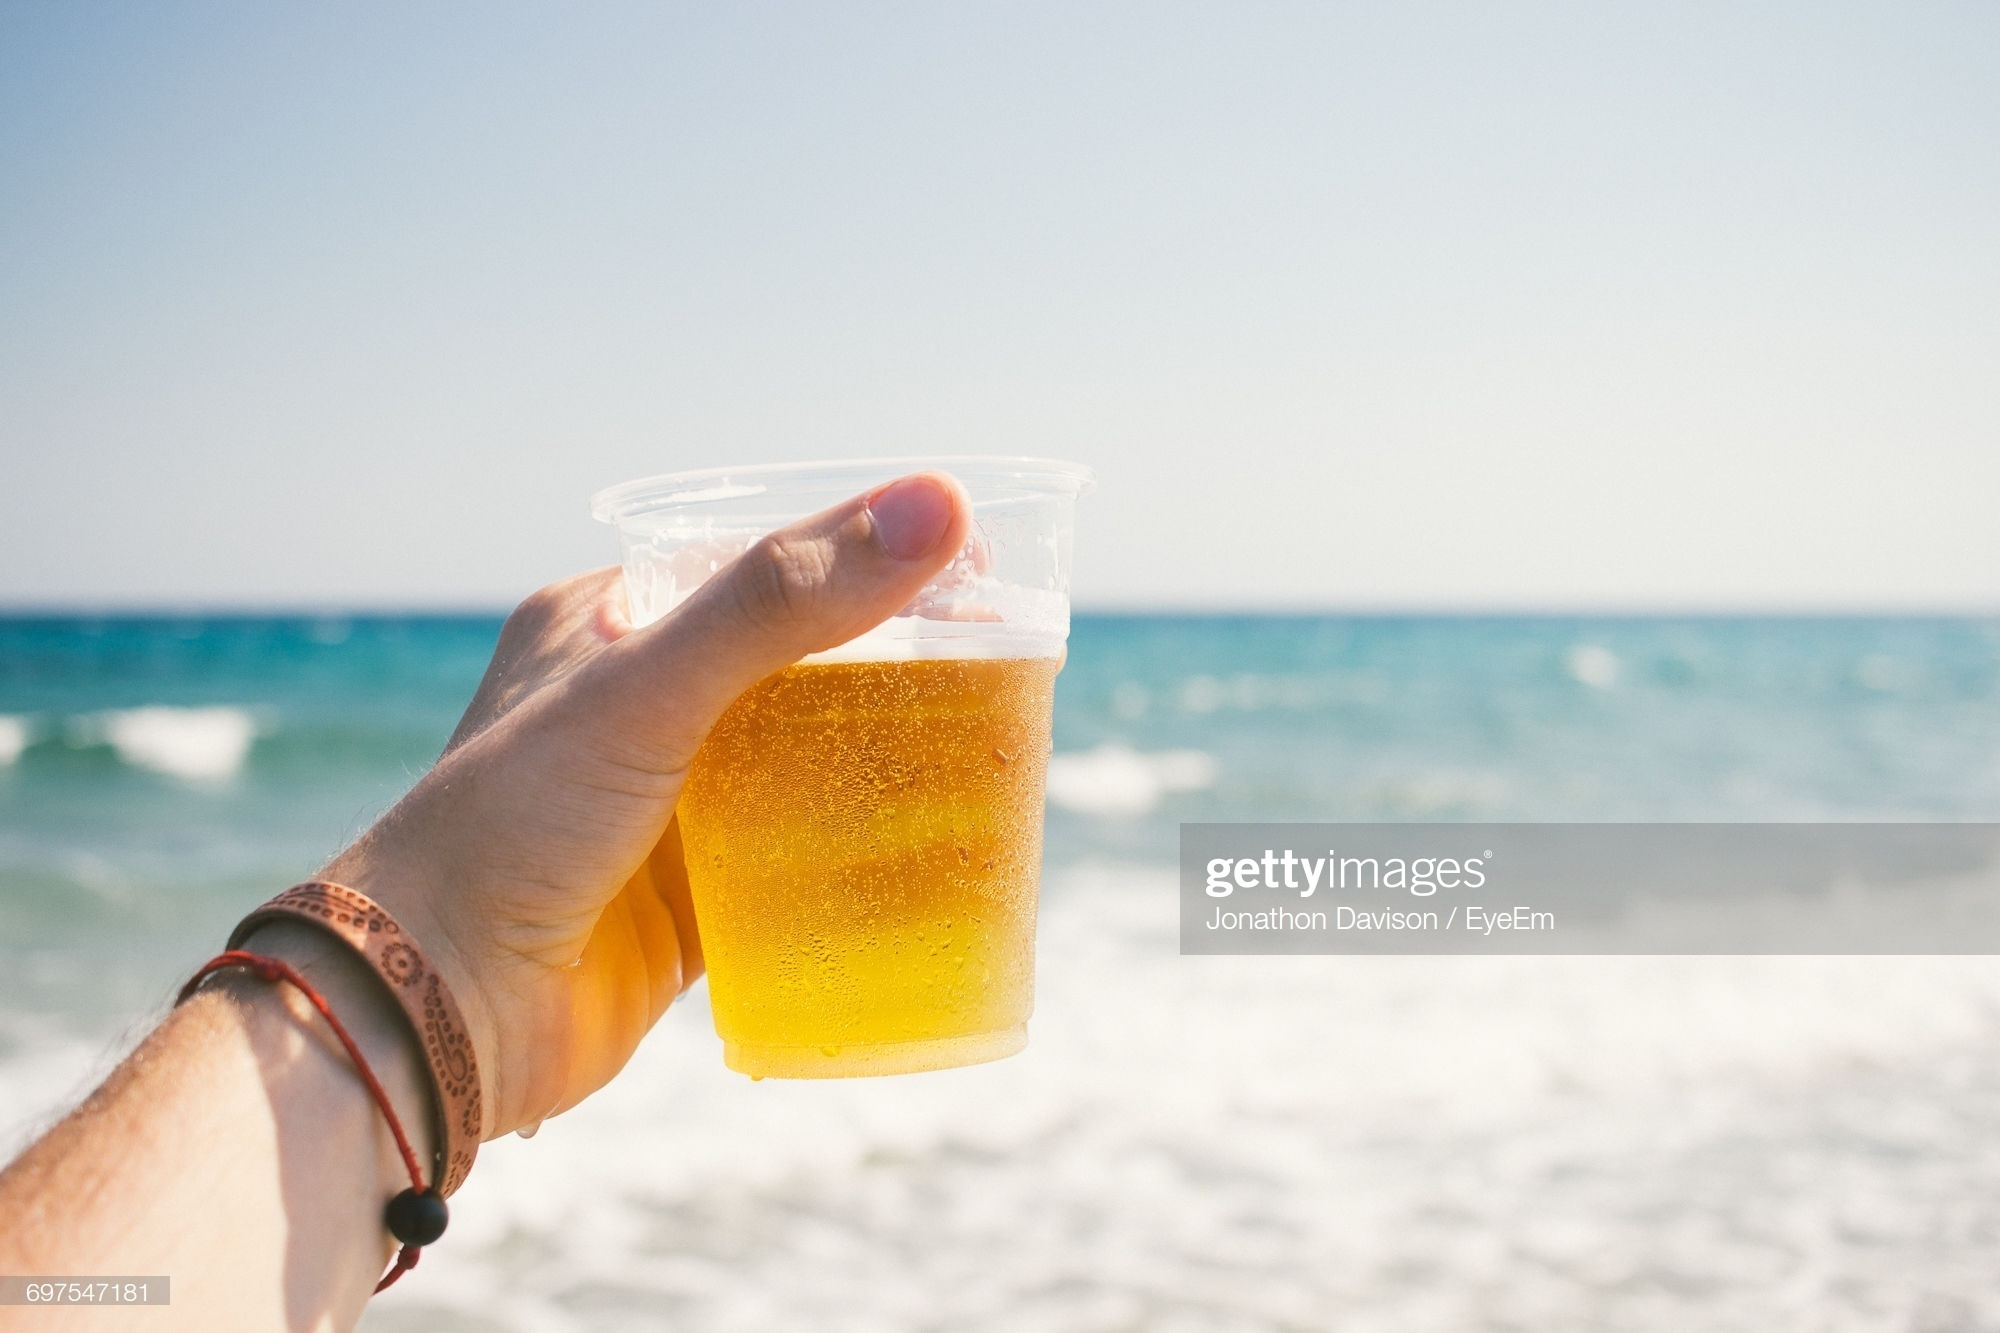whiskey: (581, 434, 1108, 1096)
